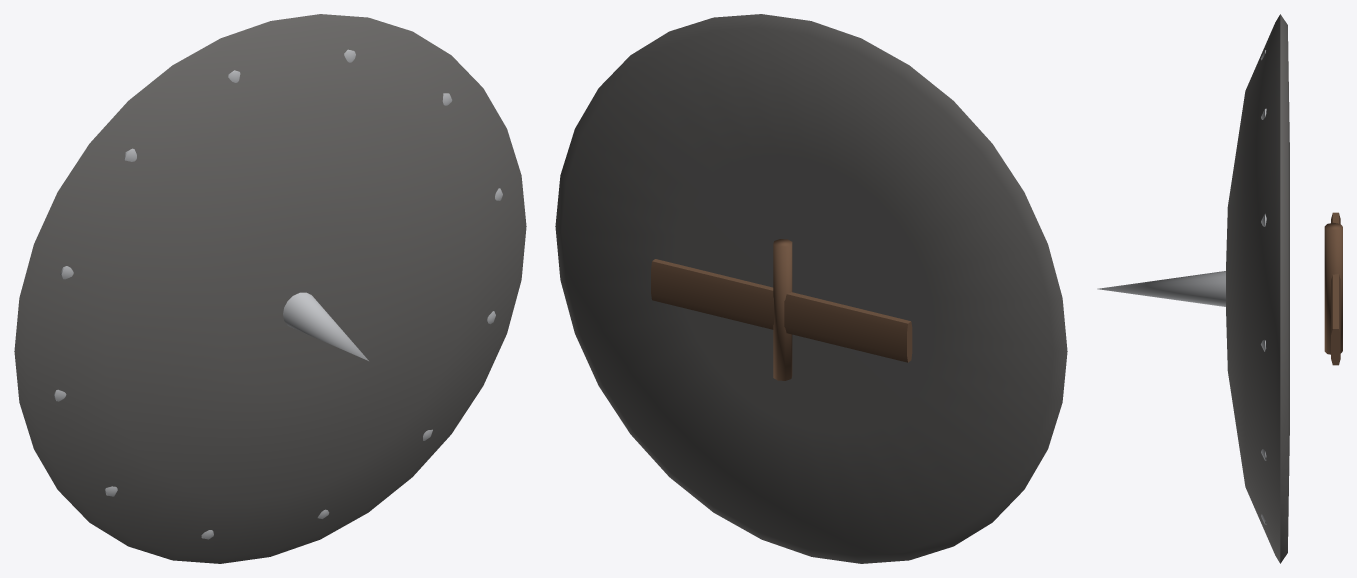
File: dwarven-war-shield.glb
3 renders of one model, left to right at view 1: azimuth 30°, elevation 25°; view 2: azimuth 150°, elevation 25°; view 3: azimuth 270°, elevation 25°, orthographic. The views are drawn at different scales.
Parts seen in each view (by area): view 1: dwarven-war-shield; view 2: dwarven-war-shield; view 3: dwarven-war-shield.
Part boxes in pixels (x1,y1,x2,y2): dwarven-war-shield: (14, 14, 526, 563); dwarven-war-shield: (555, 14, 1067, 563); dwarven-war-shield: (1097, 14, 1342, 563).
Size of the model in its own units: 1.32 by 1.32 by 0.592.
